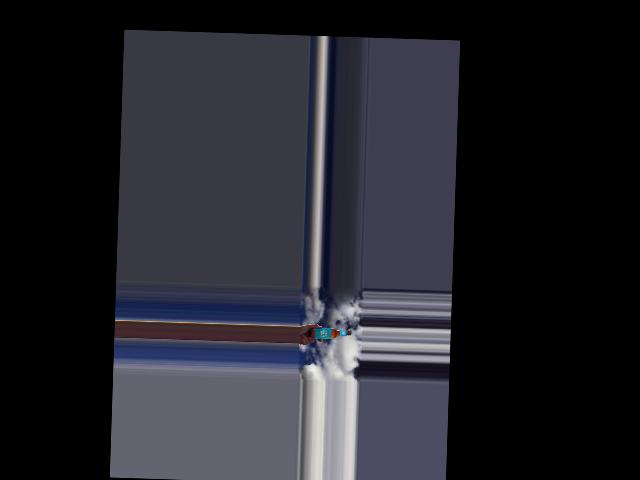beer: (309, 326, 351, 338)
